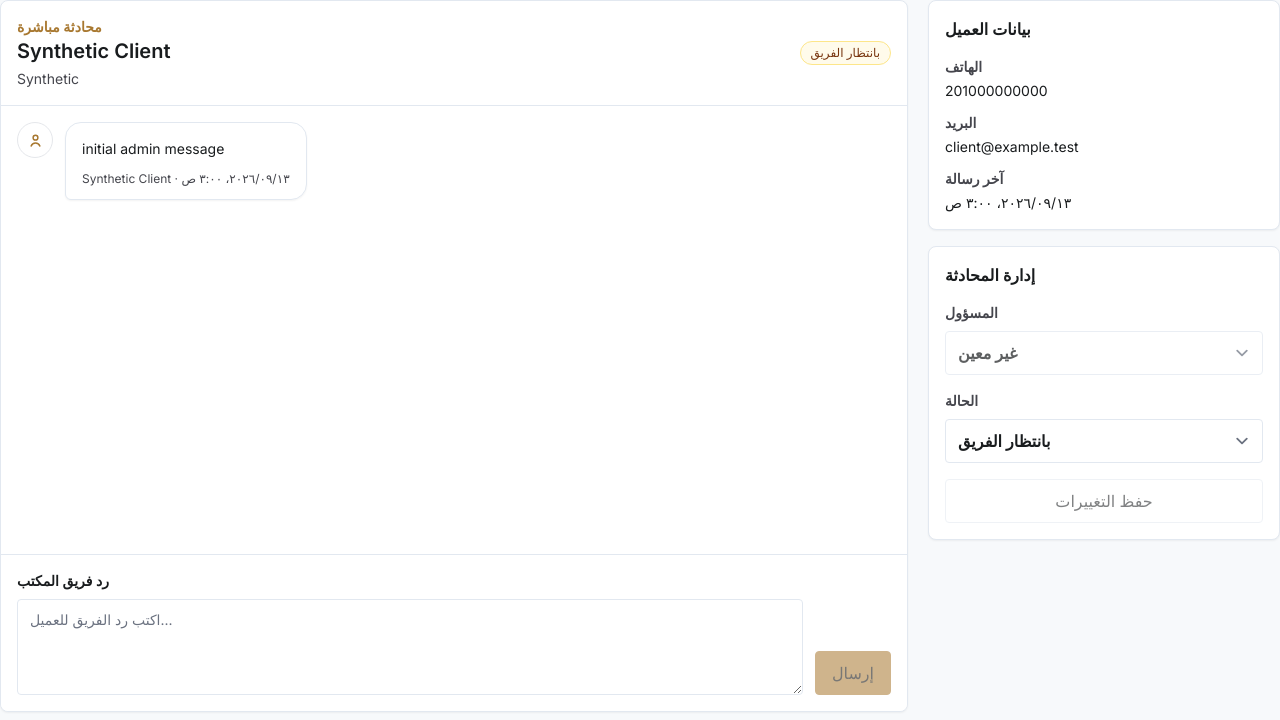
Test: conversation poll consistency › does not overlap an admin POST with a PATCH
Type "pending staff reply" into the text box with placeholder "اكتب رد الفريق للعميل...".
click(410, 647); type("pending staff reply")  # box [17, 599, 803, 695]
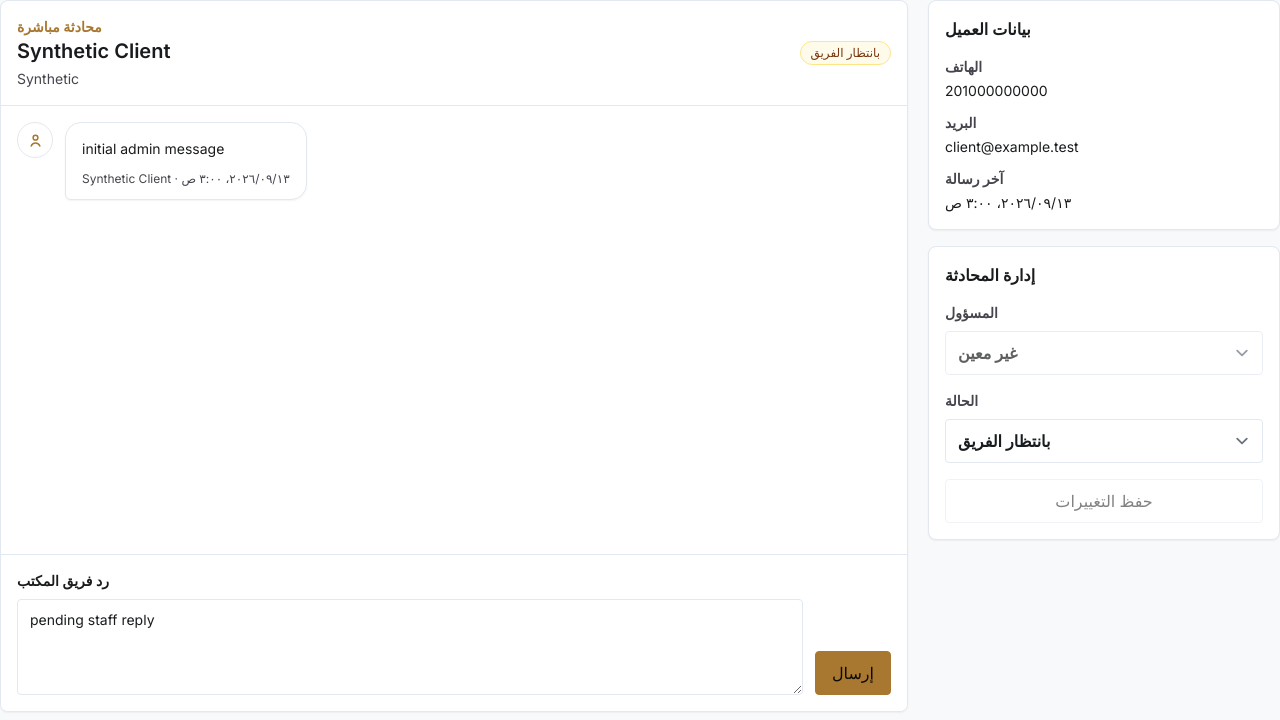
Submit the form with placeholder "اكتب رد الفريق للعميل...", box [1, 554, 907, 711]
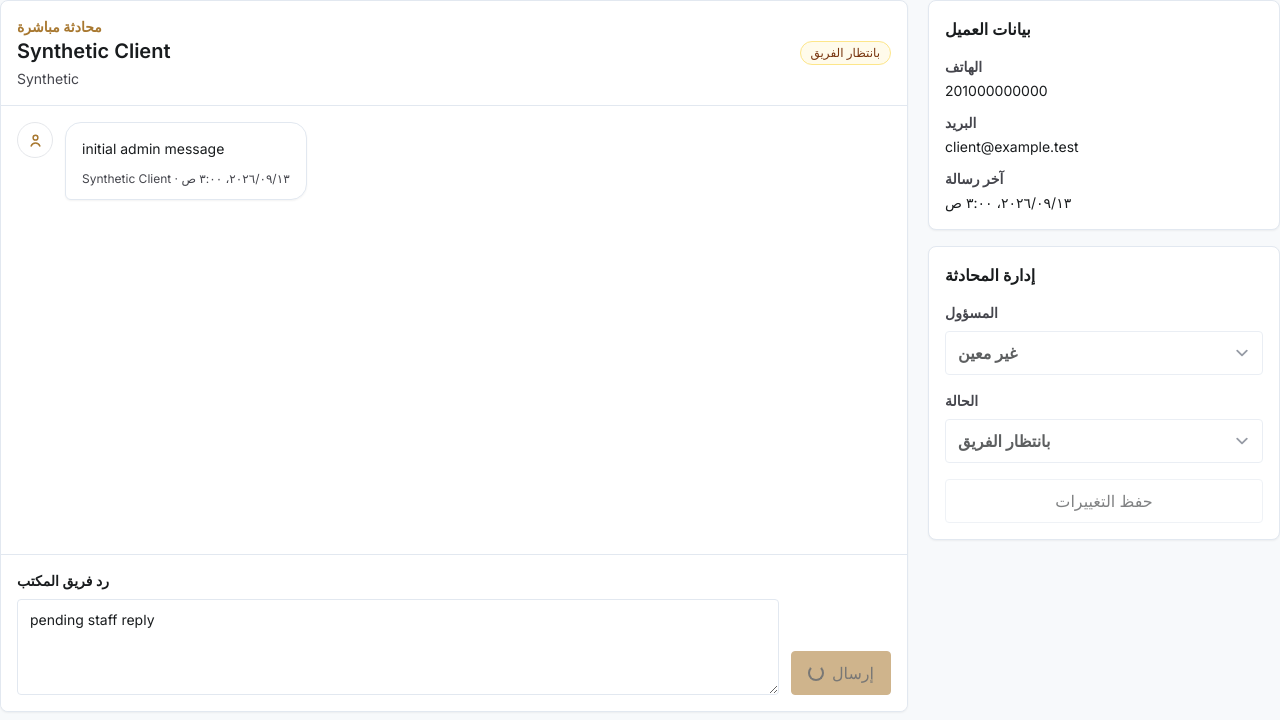
expect the dropdown labelled "الحالة" is disabled: met
Select "مغلقة" in the dropdown labelled "الحالة" at point(1104, 441), box [945, 419, 1263, 463]
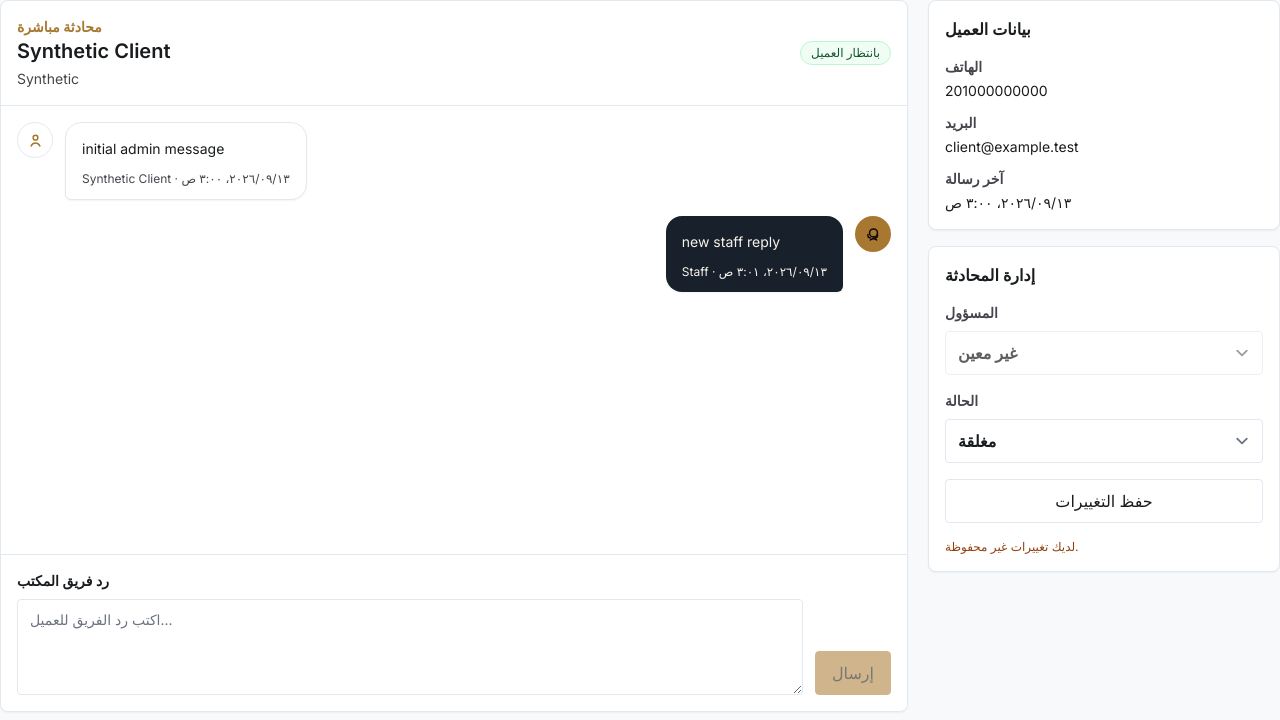
expect the text "new staff reply" is shown: met, box [682, 233, 780, 250]
